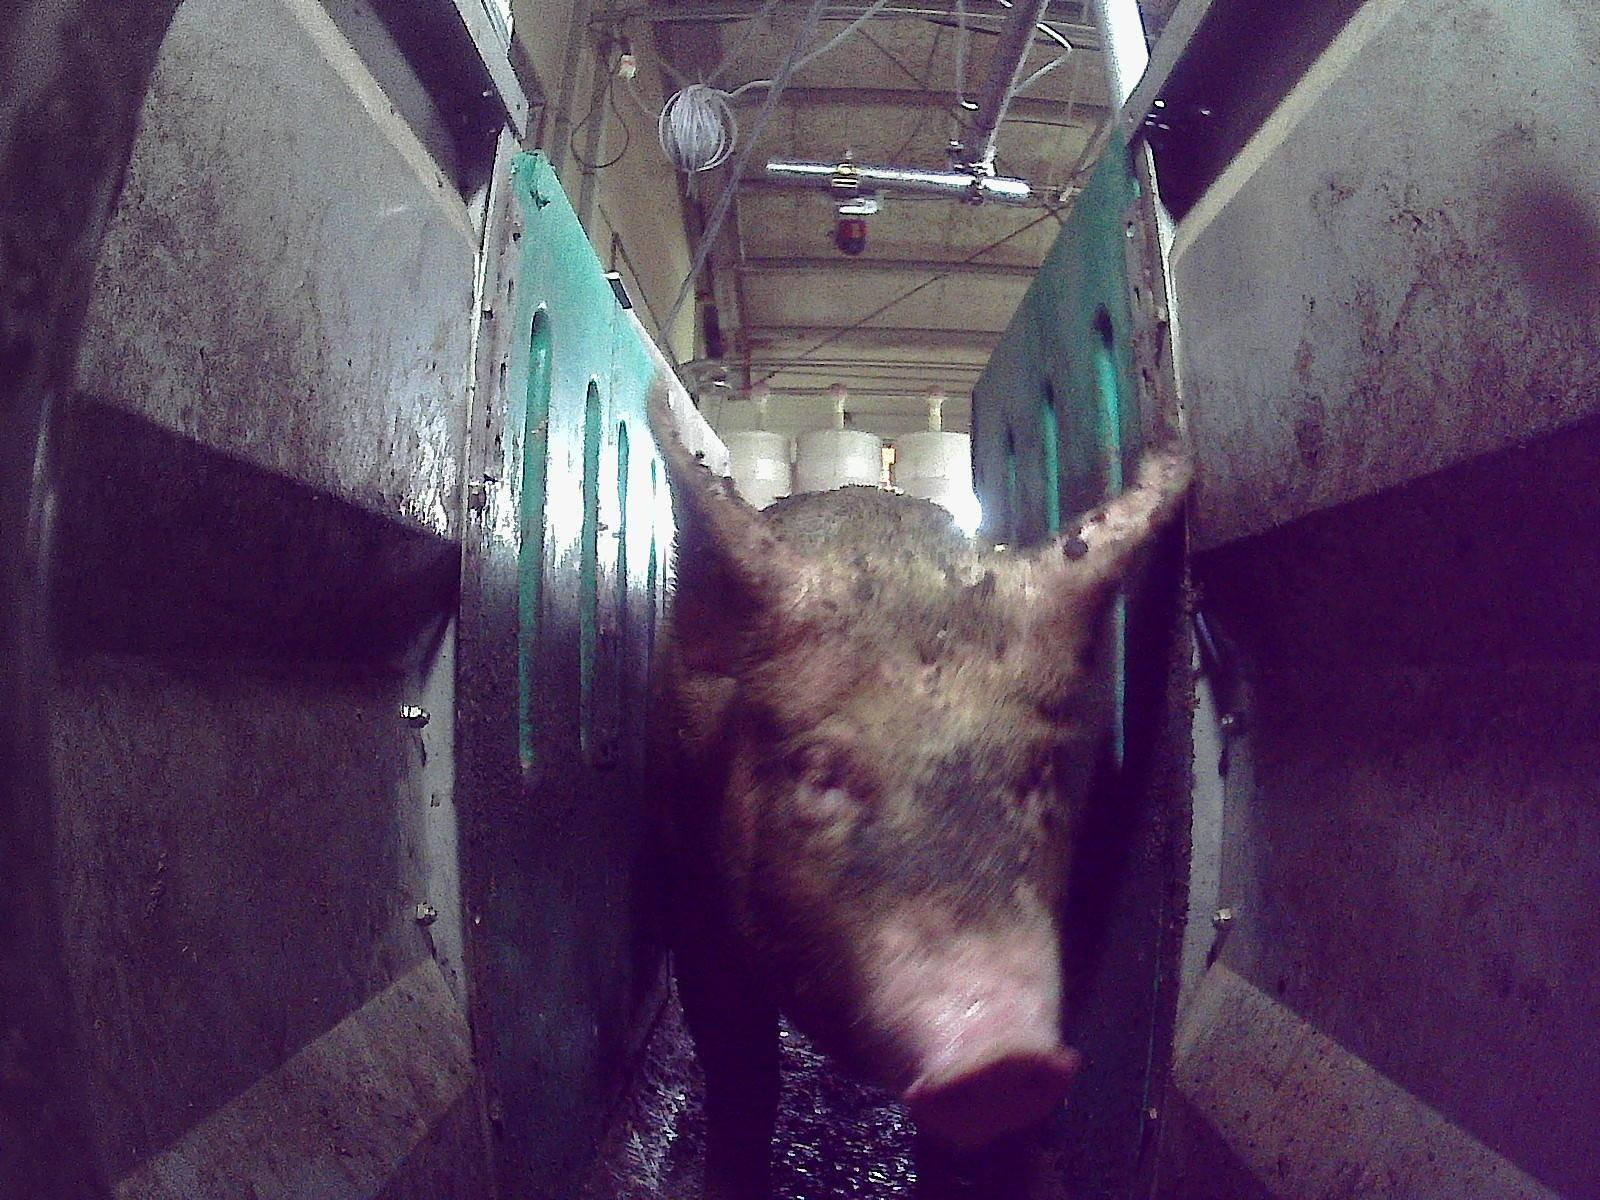Face: (713, 580, 1081, 1150)
